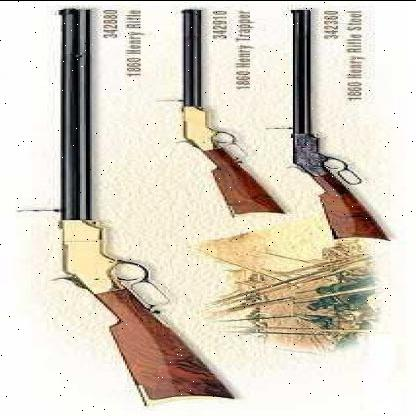rifle: (27, 5, 266, 404), (146, 3, 295, 223), (268, 1, 403, 243)
